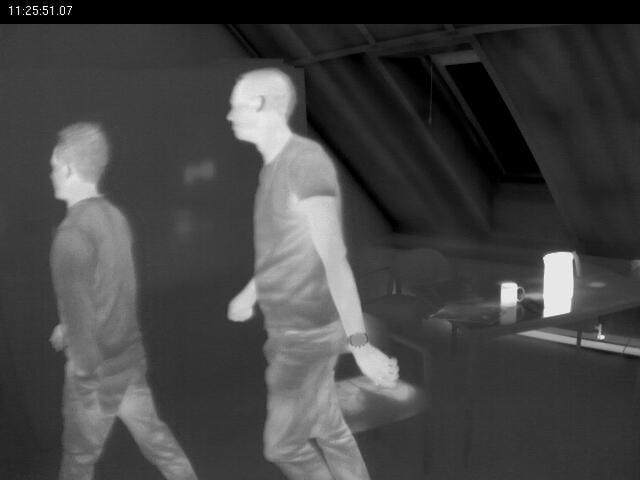person: (214, 54, 400, 480), (35, 122, 196, 480)
